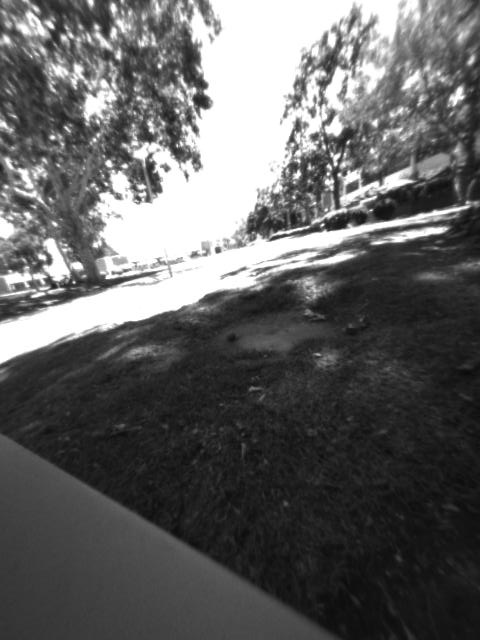dogtoy: (216, 324, 250, 356)
